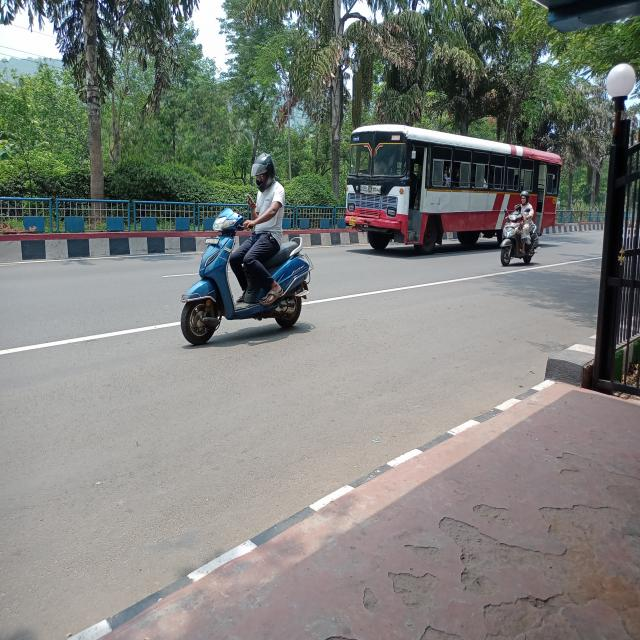bike: (178, 204, 312, 346), (500, 210, 542, 263)
bus: (346, 121, 568, 268)
